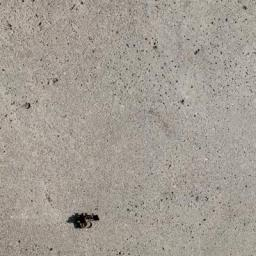FOD: (68, 211, 102, 233)
